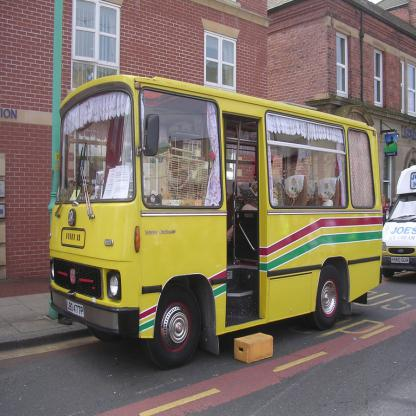Bus: (52, 71, 384, 368)
